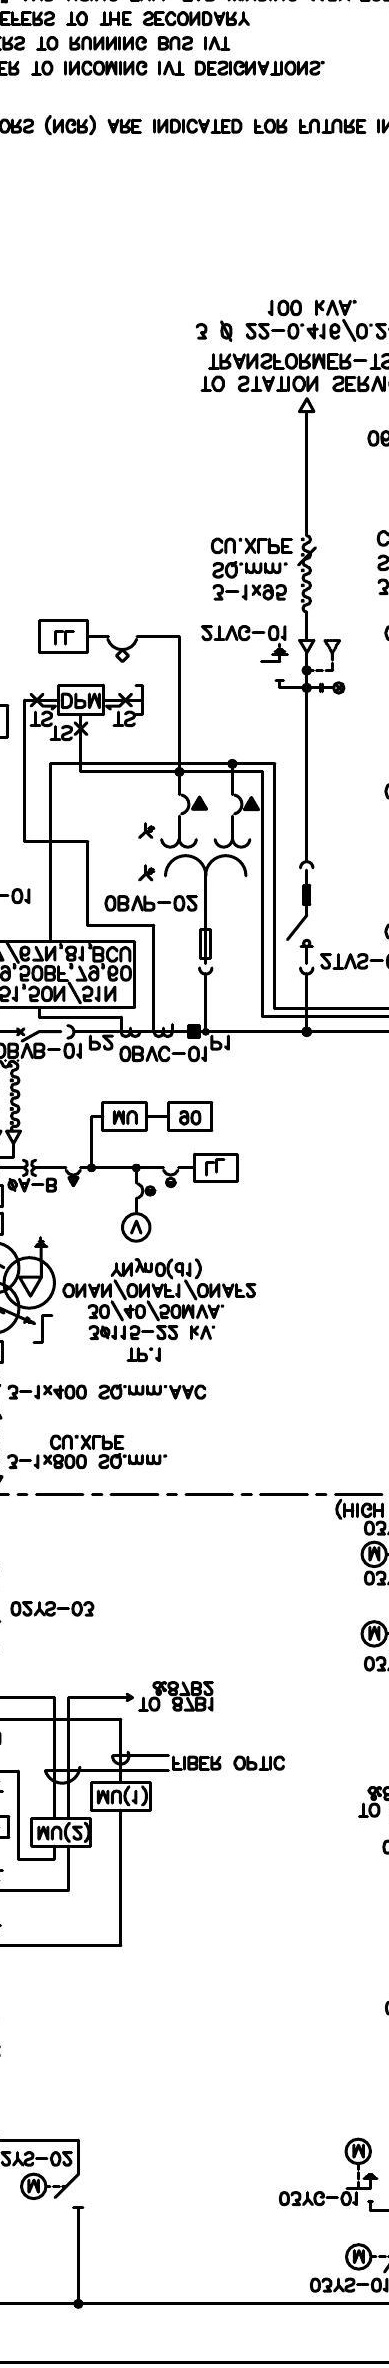115_1way_ds_w_motor: (19, 2172, 85, 2209)
115_gs_w_motor: (343, 2137, 380, 2203)
22_ds: (285, 859, 315, 976)
22_gs: (260, 643, 290, 683)
22_ll: (318, 681, 347, 696)
22_vt_3p: (137, 792, 261, 976)
DPM: (56, 683, 106, 717)
LL: (37, 618, 89, 655), (192, 1152, 240, 1184)
MU: (30, 1816, 93, 1849), (90, 1780, 153, 1812), (100, 1100, 149, 1133)
terminator_single: (297, 396, 317, 414)
terminator_w_future: (298, 638, 342, 673)
v_m: (120, 1211, 153, 1244)
